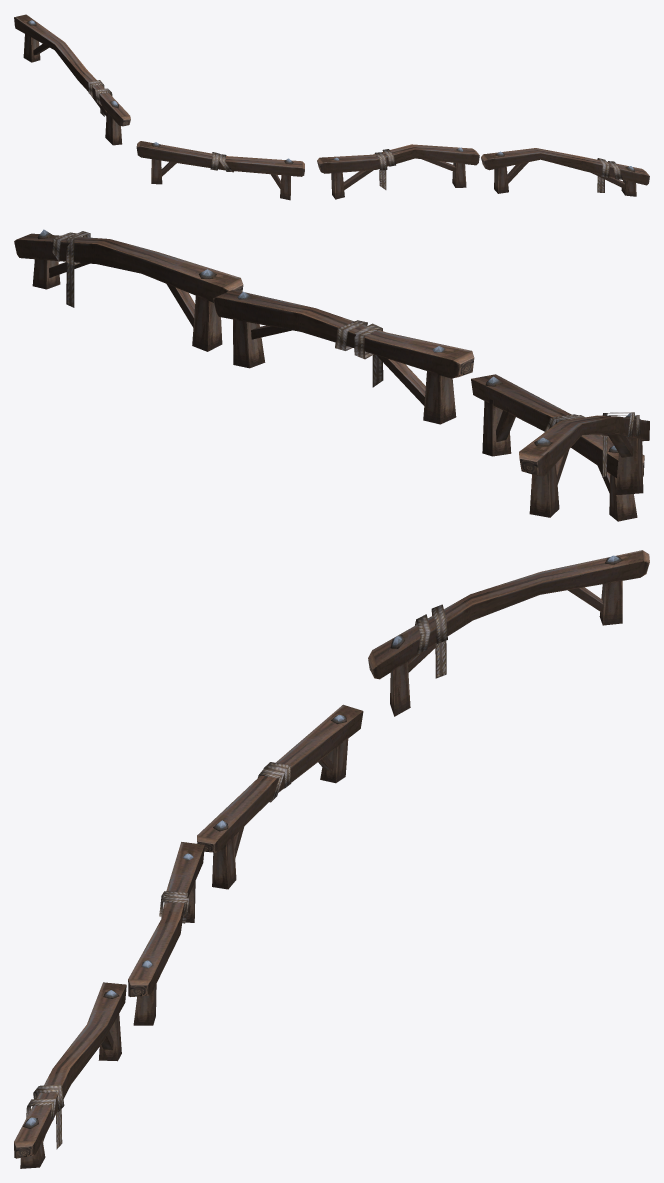
File: object_wooden_fences01.fbx
3 views of the same model, one above another, from view 1: azimuth 30°, elevation 25°; view 2: azimuth 150°, elevation 25°; view 3: azimuth 270°, elevation 25° (orthographic). The views are drawn at different scales.
Parts seen in each view (by area): view 1: object_wooden_fences01-0; view 2: object_wooden_fences01-0; view 3: object_wooden_fences01-0.
Part boxes in pixels (<box>): object_wooden_fences01-0: <box>14,14,649,200</box>; object_wooden_fences01-0: <box>14,229,649,521</box>; object_wooden_fences01-0: <box>14,550,649,1168</box>.
Size of the model in its own units: 19.13 by 6.2 by 13.81.
